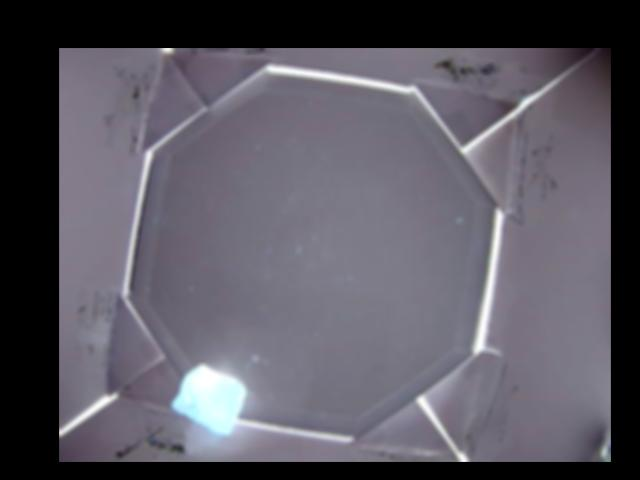Brisk: (172, 362, 246, 434)
